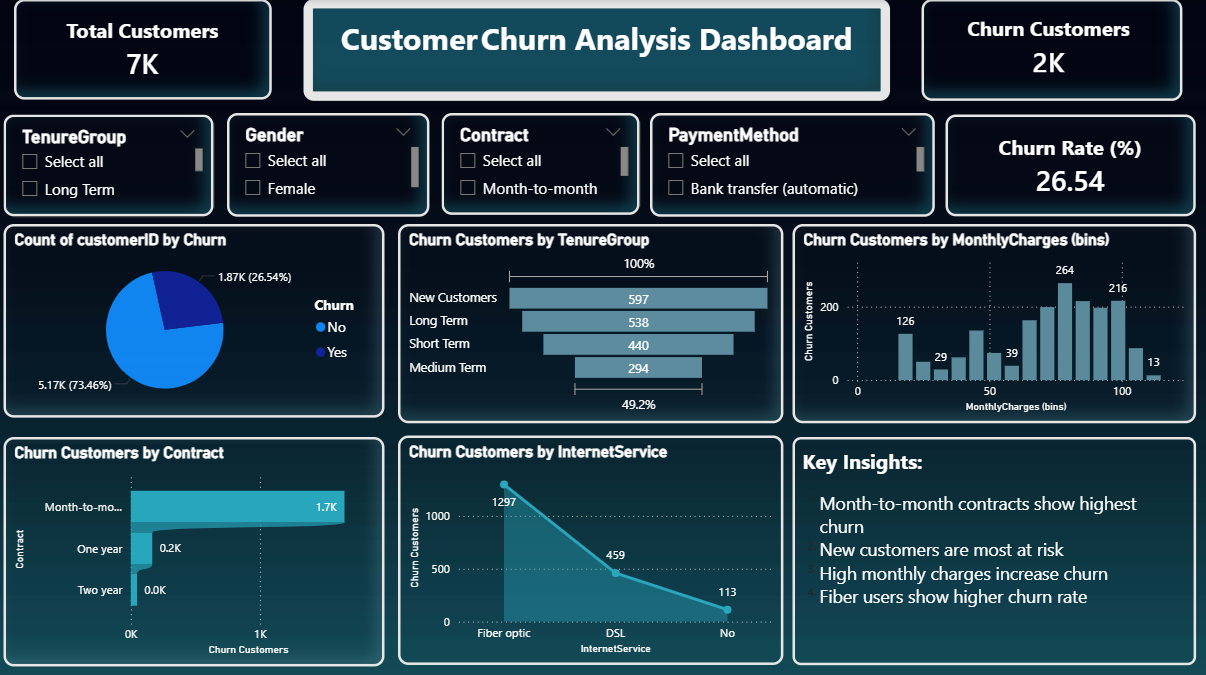

The page's visual inventory and layout, read from the dashboard file:
{"tool":"powerbi","page":{"name":"Page 1","canvas":[1280,720],"ordinal":0},"visuals":[{"type":"funnel","fields":{"Category":["Telco-Customer-Churn.TenureGroup"],"Y":["Telco-Customer-Churn.Churn Customers"]},"box":[423.1,238.6,408.8,211.6],"z":0},{"type":"barChart","fields":{"Y":["Telco-Customer-Churn.Churn Customers"],"Category":["Telco-Customer-Churn.Contract"]},"box":[4.8,464.5,404,243.4],"z":1000},{"type":"lineChart","fields":{"Category":["Telco-Customer-Churn.InternetService"],"Y":["Telco-Customer-Churn.Churn Customers"]},"box":[423.1,462.9,408.8,243.4],"z":2000},{"type":"clusteredColumnChart","fields":{"Y":["Telco-Customer-Churn.Churn Customers"],"Category":["Telco-Customer-Churn.MonthlyCharges (bins)"]},"box":[841.4,238.6,427.9,211.6],"z":3000},{"type":"pieChart","fields":{"Y":["CountNonNull(Telco-Customer-Churn.customerID)"],"Category":["Telco-Customer-Churn.Churn"]},"box":[4.8,238.6,404,205.2],"z":4000},{"type":"textbox","box":[322.9,0,621.9,108.2],"z":5000},{"type":"slicer","fields":{"Values":["Telco-Customer-Churn.Contract"]},"box":[469.2,120.9,210,108.2],"z":6000},{"type":"slicer","fields":{"Values":["Telco-Customer-Churn.gender"]},"box":[241.8,120.9,214.7,109.8],"z":7000},{"type":"slicer","fields":{"Values":["Telco-Customer-Churn.TenureGroup"]},"box":[4.8,122.5,222.7,108.2],"z":8000},{"type":"cardVisual","fields":{"Data":["Telco-Customer-Churn.Churn Customers"]},"box":[978.2,0,276.8,108.2],"z":9000},{"type":"cardVisual","fields":{"Data":["Telco-Customer-Churn.Churn Rate (%)"]},"box":[1003.7,122.5,265.6,108.2],"z":10000},{"type":"cardVisual","fields":{"Data":["Telco-Customer-Churn.Total Customers"]},"box":[15.9,0,273.6,106.6],"z":11000},{"type":"slicer","fields":{"Values":["Telco-Customer-Churn.PaymentMethod"]},"box":[690.3,120.9,302.2,109.8],"z":12000},{"type":"textbox","box":[841.4,464.5,427.9,241.8],"z":13000}]}

Visuals, with their boxes in screenshot pixels (x1, y1, x2, y2), scaled from the page's 1280x720 canvas onto the 1206x675 screenshot:
funnel - Telco-Customer-Churn.TenureGroup x Telco-Customer-Churn.Churn Customers: [left=399, top=224, right=784, bottom=422]
barChart - Telco-Customer-Churn.Churn Customers x Telco-Customer-Churn.Contract: [left=5, top=435, right=385, bottom=664]
lineChart - Telco-Customer-Churn.InternetService x Telco-Customer-Churn.Churn Customers: [left=399, top=434, right=784, bottom=662]
clusteredColumnChart - Telco-Customer-Churn.Churn Customers x Telco-Customer-Churn.MonthlyCharges (bins): [left=793, top=224, right=1196, bottom=422]
pieChart - CountNonNull(Telco-Customer-Churn.customerID) x Telco-Customer-Churn.Churn: [left=5, top=224, right=385, bottom=416]
textbox: [left=304, top=0, right=890, bottom=101]
slicer - Telco-Customer-Churn.Contract: [left=442, top=113, right=640, bottom=215]
slicer - Telco-Customer-Churn.gender: [left=228, top=113, right=430, bottom=216]
slicer - Telco-Customer-Churn.TenureGroup: [left=5, top=115, right=214, bottom=216]
cardVisual - Telco-Customer-Churn.Churn Customers: [left=922, top=0, right=1182, bottom=101]
cardVisual - Telco-Customer-Churn.Churn Rate (%): [left=946, top=115, right=1196, bottom=216]
cardVisual - Telco-Customer-Churn.Total Customers: [left=15, top=0, right=273, bottom=100]
slicer - Telco-Customer-Churn.PaymentMethod: [left=650, top=113, right=935, bottom=216]
textbox: [left=793, top=435, right=1196, bottom=662]
